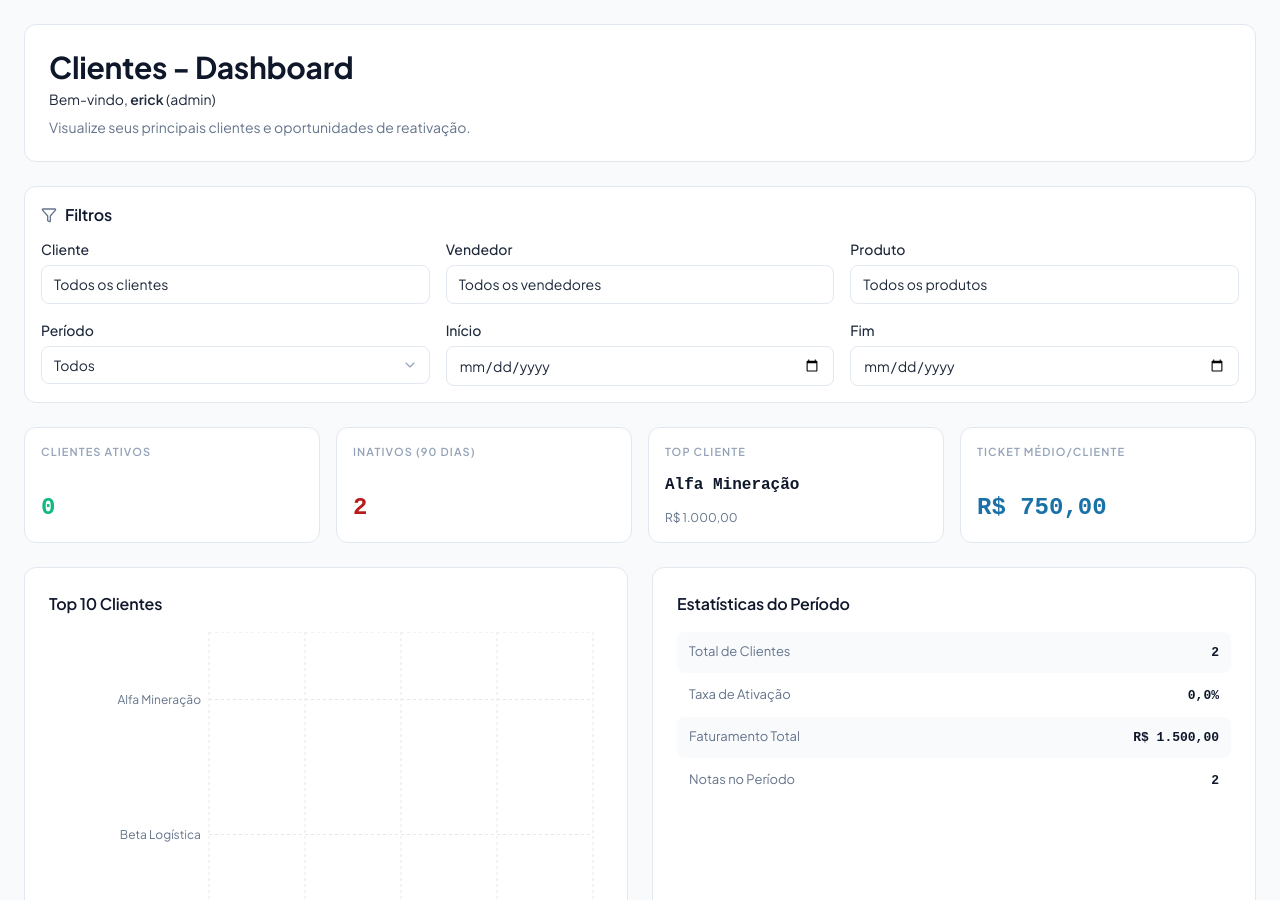
Test: MultiSelect em Clientes › sem resultado, diz que não achou
The image size is (1280, 900).
Click the button named "Cliente Todos os clientes" at x=111, y=284, box [41, 265, 430, 304]
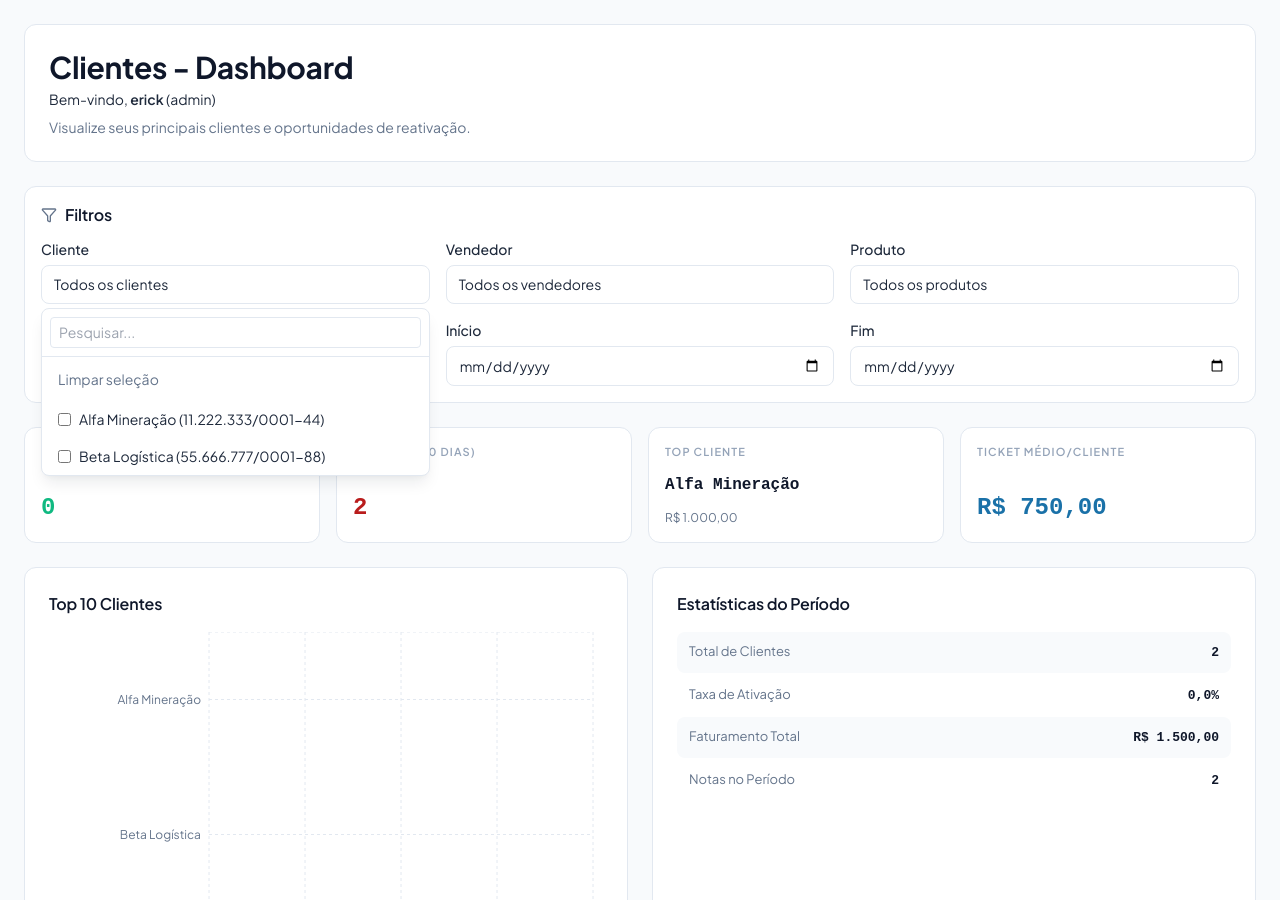
Type "gama" into the field with placeholder "Pesquisar..." at x=235, y=332, box [50, 317, 421, 348]
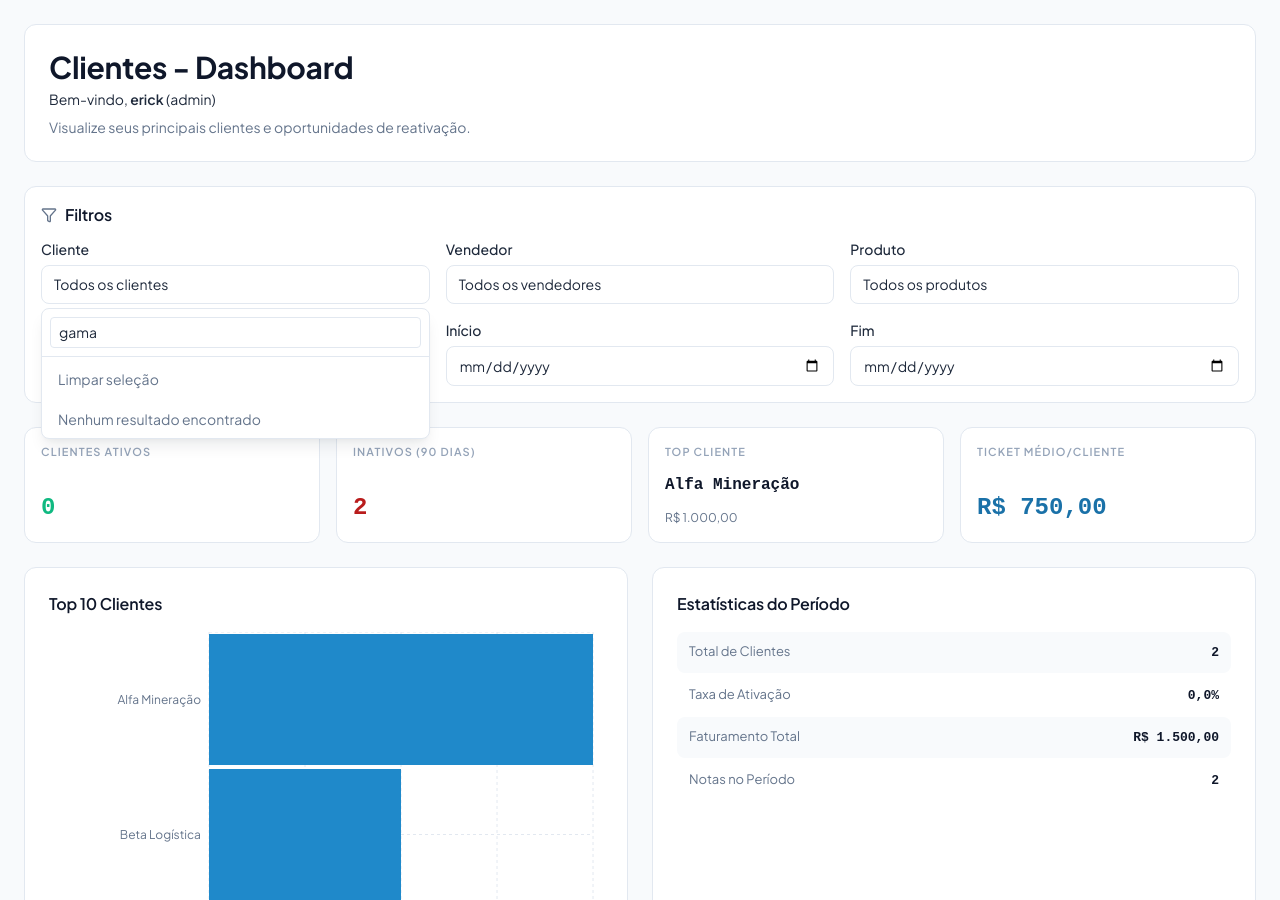
Expected: the text "Nenhum resultado encontrado" is shown, [58, 410, 261, 428]
